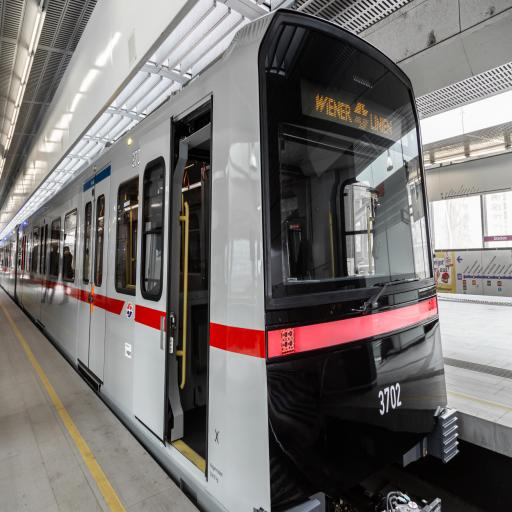X-Wagen: (0, 13, 460, 470)
